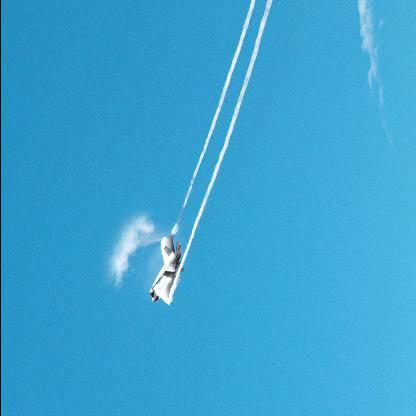F22: (148, 238, 182, 306)
